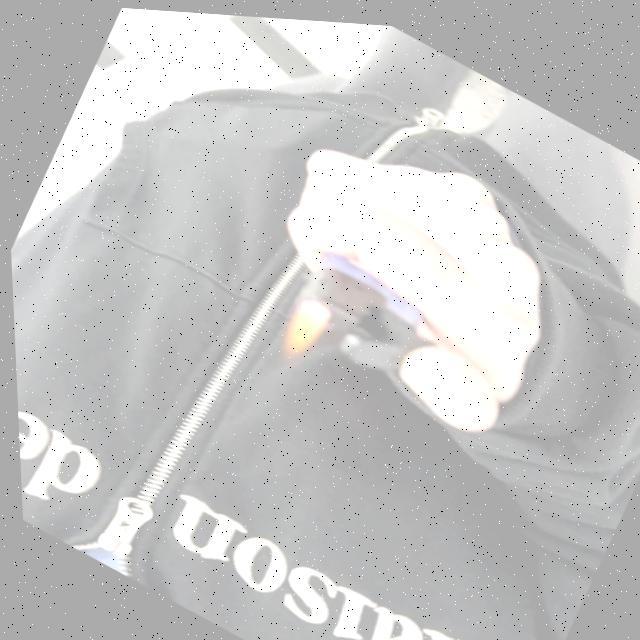Fire: (268, 294, 325, 364)
